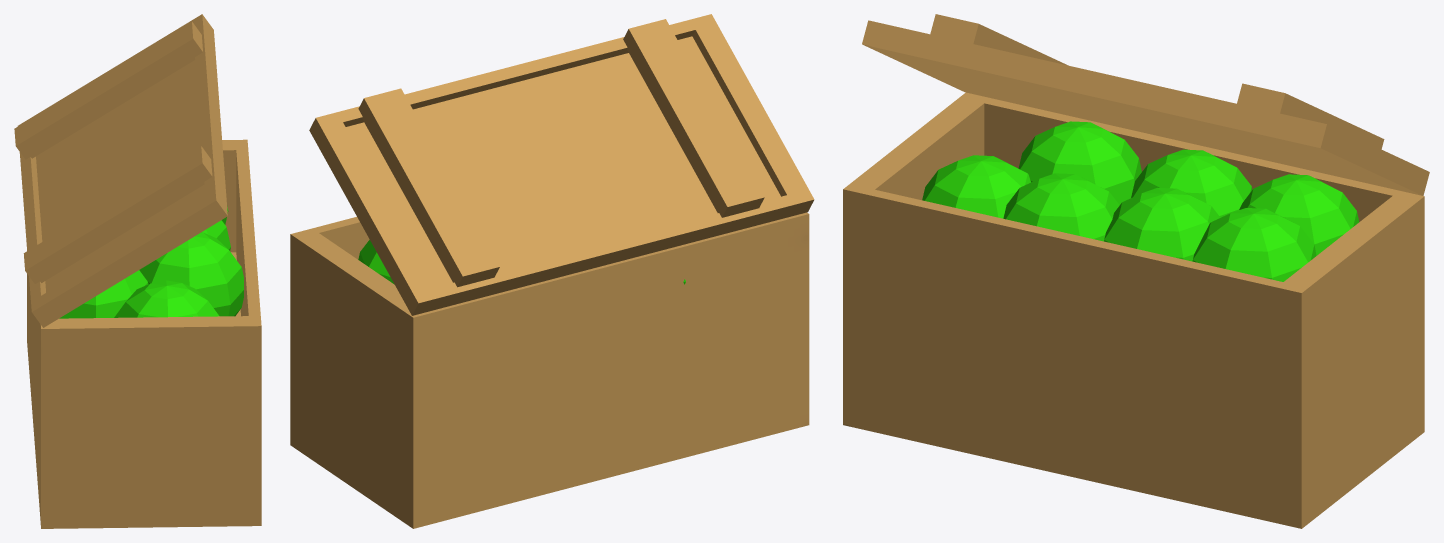
Rendered from bomb_powerup.glb.
The picture shows the model from 3 angles, left to right: view 1: azimuth 30°, elevation 25°; view 2: azimuth 150°, elevation 25°; view 3: azimuth 270°, elevation 25°; orthographic projection. The views are drawn at different scales.
Visible parts, largest first — view 1: Cube.003, Cube, Cube.001, Cube.002, Sphere.001, Sphere, Sphere.002, Sphere.006; view 2: Cube.003, Cube, Cube.002, Cube.001; view 3: Cube.003, Cube, Sphere.005, Sphere.002, Sphere.006, Sphere.001, Sphere.004, Sphere.003, Sphere, Cube.002, Cube.001.
Part boxes in pixels (x1,y1,x2,y2): Cube.003: (27,139,261,528); Cube: (17,14,227,327); Cube.001: (23,146,212,283); Cube.002: (14,21,202,159); Sphere.001: (139,232,243,316); Sphere: (114,280,219,317); Sphere.002: (59,270,148,318); Sphere.006: (202,220,230,250); Cube.003: (290,212,809,528); Cube: (309,14,814,315); Cube.002: (358,88,499,287); Cube.001: (623,19,764,217); Cube.003: (843,92,1424,528); Cube: (862,20,1429,195); Sphere.005: (1192,208,1316,281); Sphere.002: (1018,121,1141,204); Sphere.006: (1104,188,1220,261); Sphere.001: (1003,173,1119,241); Sphere.004: (1239,174,1359,255); Sphere.003: (1131,149,1252,217); Sphere: (922,155,1030,218); Cube.002: (1237,83,1384,149); Cube.001: (930,14,1068,65).
Size of the model in its own units: 0.5823 by 0.5297 by 0.7048.
4 materials, 1 textured.
